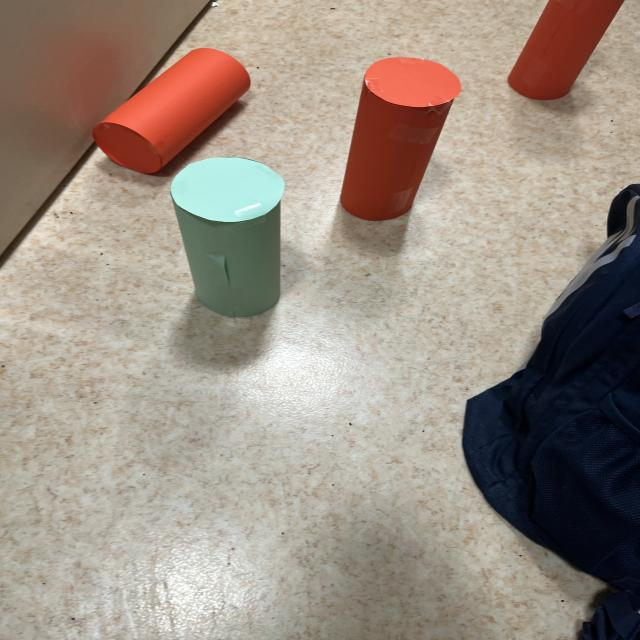meta: (171, 157, 284, 317)
przeszkoda: (93, 48, 250, 174), (341, 57, 461, 220), (508, 0, 624, 100)
